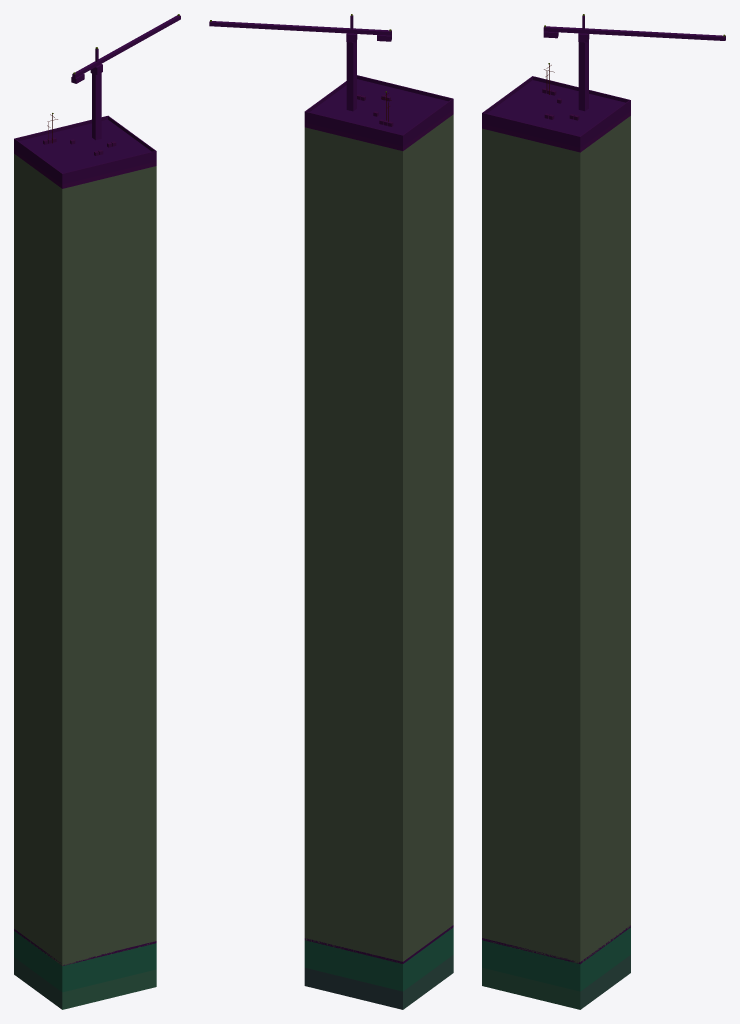
The model's file is tower_j.glb.
3 renders of one model, left to right at view 1: azimuth 30°, elevation 25°; view 2: azimuth 150°, elevation 25°; view 3: azimuth 330°, elevation 25°, orthographic. The views are drawn at different scales.
Parts seen in each view (by area): view 1: tower_j; view 2: tower_j; view 3: tower_j.
Part boxes in pixels (left/top/right/bottom): tower_j: left=14, top=14, right=180, bottom=1009; tower_j: left=209, top=14, right=453, bottom=1009; tower_j: left=482, top=14, right=725, bottom=1009.
Bounding box in the file's own units: 50.37 × 253 × 29.26.
